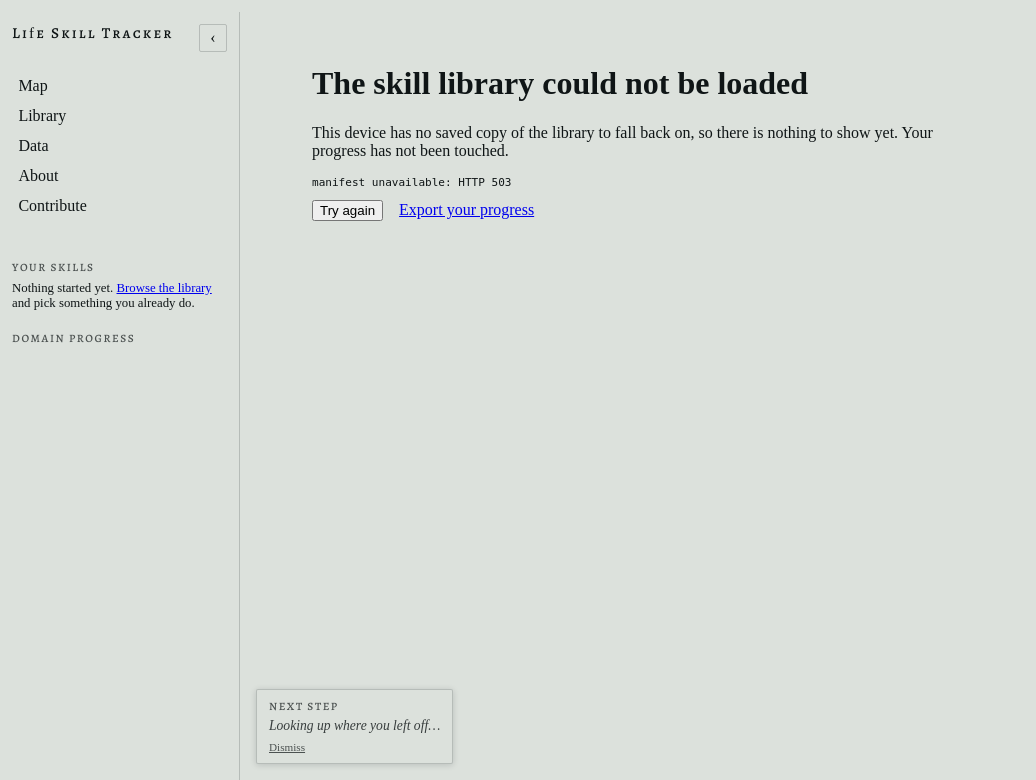
Test case: §16.3 row 2 — manifest fails, no cache › retries, and recovers when the retry succeeds
Expected: the element that starts with "The skill library could not be loaded" is shown, [296,12,968,253]
Step 1. Click the button "Try again" → [348, 210], box [312,200,383,221]
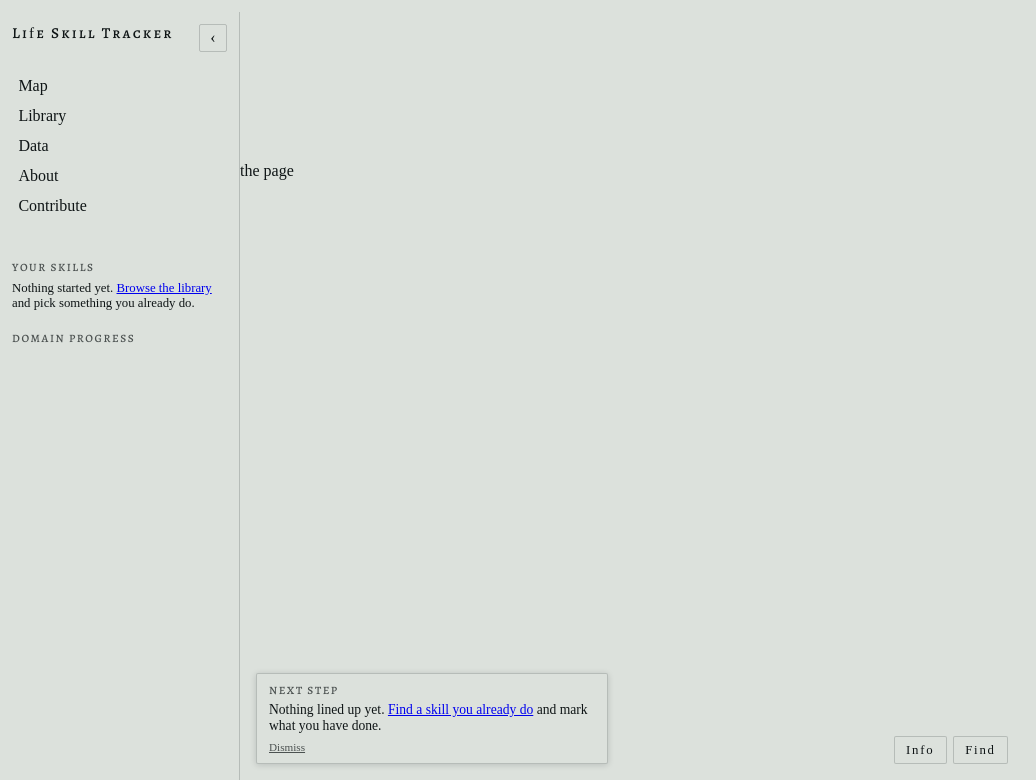
Expected: the text "the page" is shown, [240,162,294,179]
